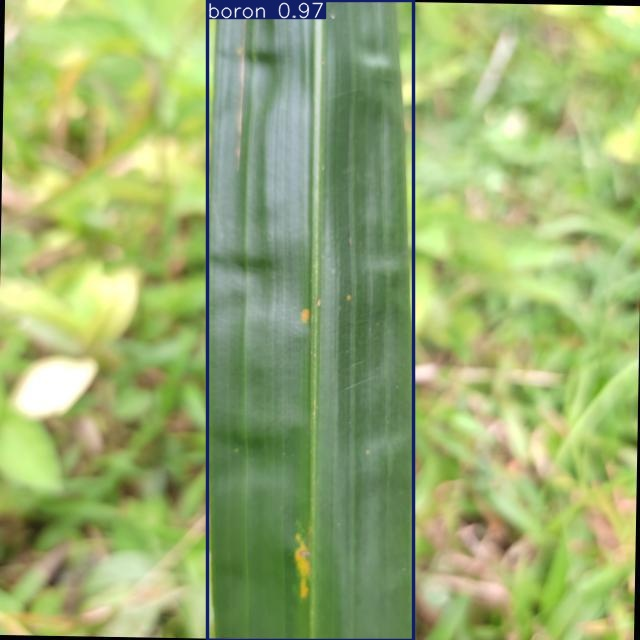nitrogen: (207, 1, 413, 640)
